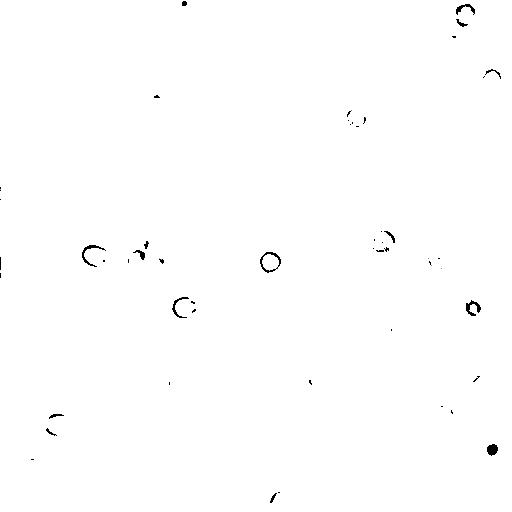micro-algae: (132, 432, 190, 490), (25, 316, 74, 364), (125, 225, 161, 262), (473, 433, 511, 466), (274, 282, 310, 313), (42, 378, 74, 412), (142, 367, 171, 396), (80, 243, 113, 268), (463, 372, 495, 397), (421, 405, 453, 429), (42, 414, 73, 438), (268, 487, 297, 512), (438, 27, 464, 54), (169, 368, 196, 394), (369, 230, 397, 255), (19, 456, 48, 480), (426, 247, 452, 273), (172, 295, 199, 320), (259, 249, 283, 275), (385, 313, 413, 335), (2, 248, 23, 277), (148, 242, 172, 267), (454, 2, 477, 27), (480, 68, 503, 93), (346, 106, 368, 128), (309, 370, 330, 392), (127, 250, 147, 270), (464, 299, 483, 316), (173, 0, 196, 14), (439, 1, 469, 10)
